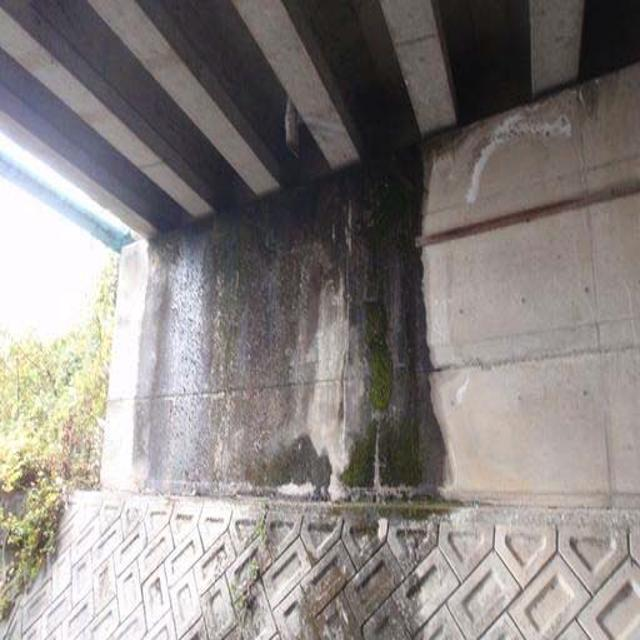leakage: (143, 121, 447, 506)
